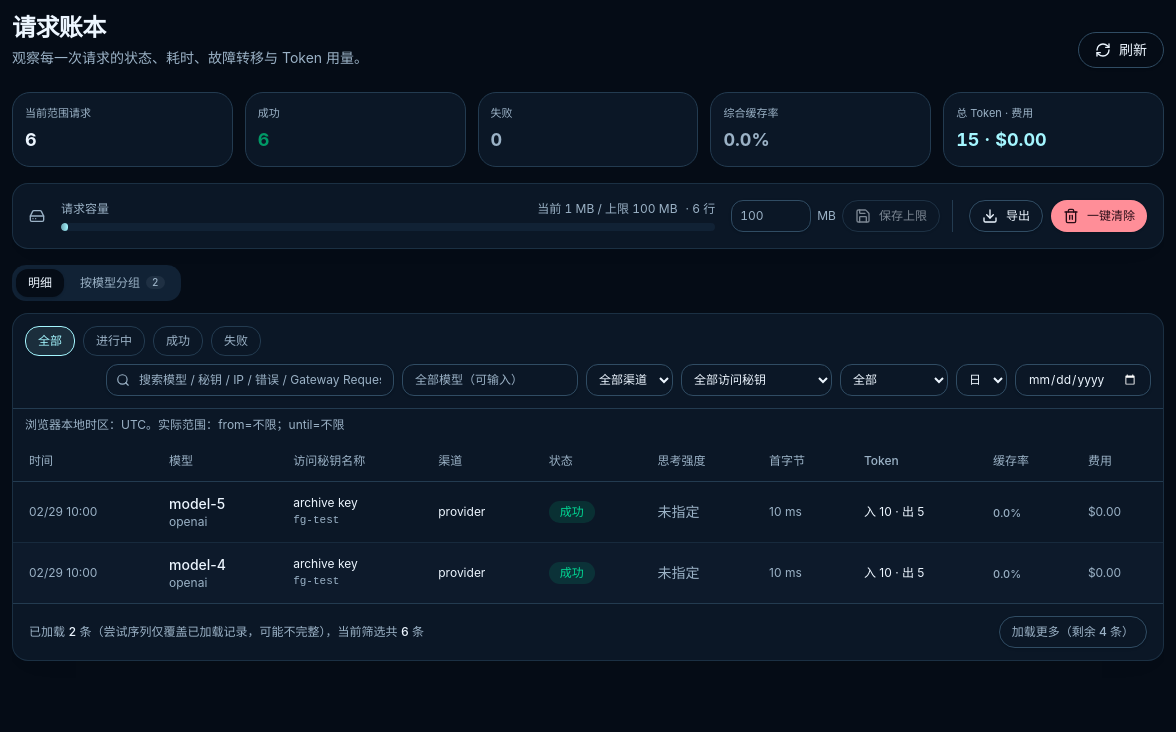
Scenario: Requests pagination › ignores an old filter's pending page even if the new first page has identical IDs
This screenshot has width=1176, height=732.
Check: the text "model-5" is shown, box [169,494,225,512]
Click the button "加载更多（剩余 4 条）". click: (1073, 632)
box: [999,616,1147,648]
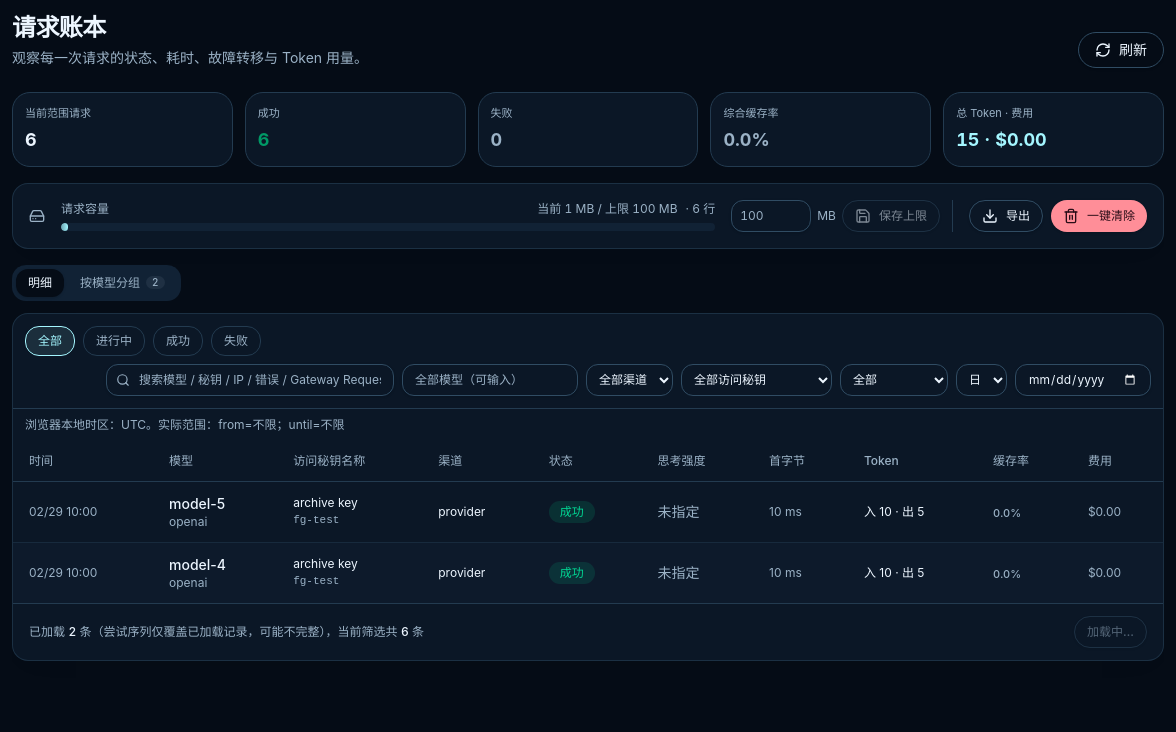
Type "history" into the field named "按模型筛选请求". click: (490, 380)
box: [402,364,578,396]
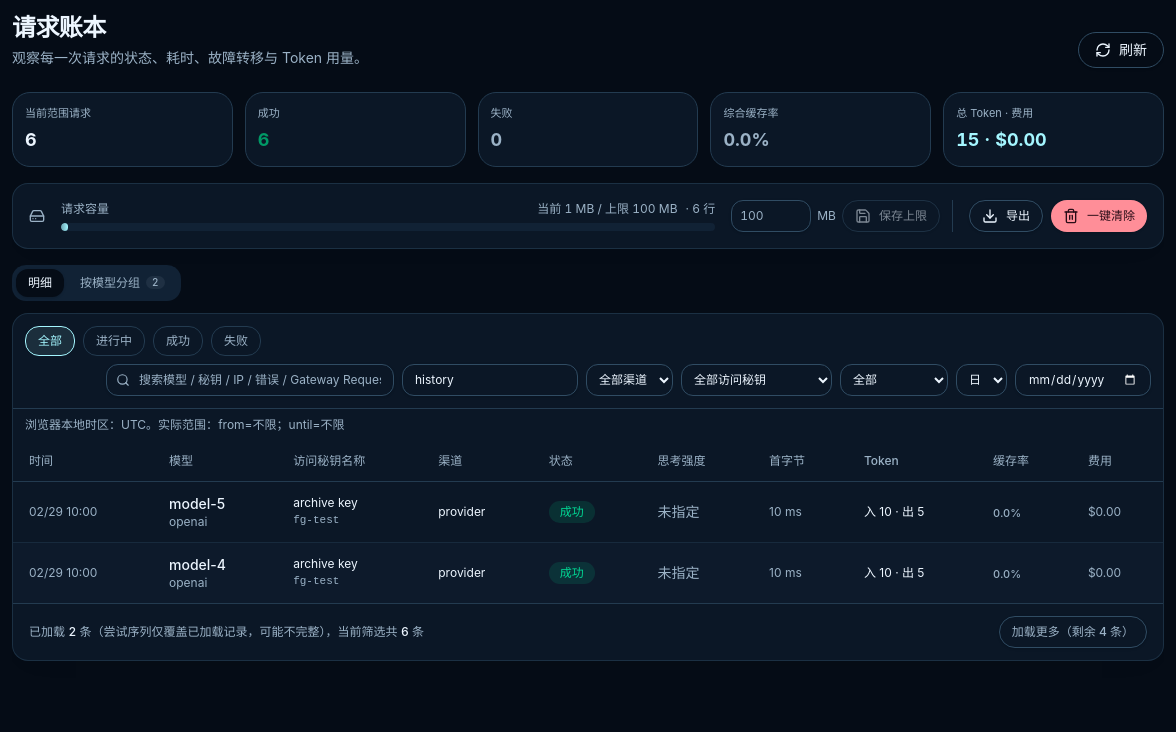
Check: the text "model-5" is shown, box [169,494,225,512]
Check: the button "加载更多（剩余 4 条）" is enabled, box [999,616,1147,648]
